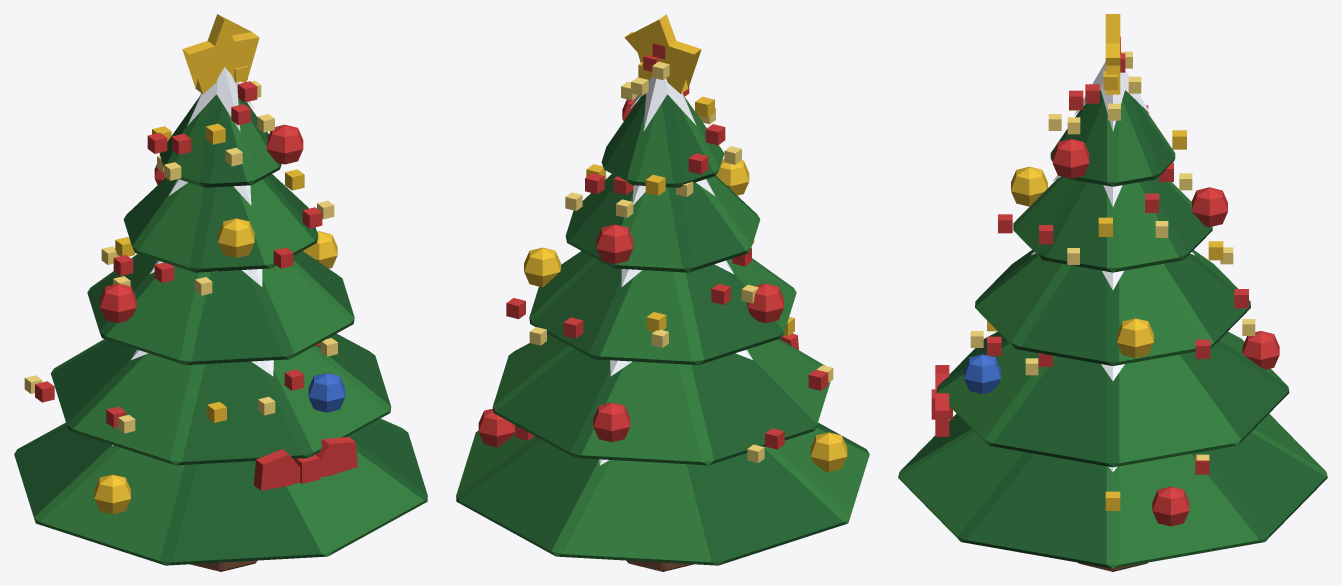
The model's file is decorated-tree-1x1.glb.
The picture shows the model from 3 angles, left to right: view 1: azimuth 30°, elevation 25°; view 2: azimuth 150°, elevation 25°; view 3: azimuth 270°, elevation 25°; orthographic projection.
Parts seen in each view (by area): view 1: decorated-tree-1x1; view 2: decorated-tree-1x1; view 3: decorated-tree-1x1.
Part boxes in pixels (x1,y1,x2,y2): decorated-tree-1x1: (14, 14, 427, 571); decorated-tree-1x1: (456, 14, 869, 571); decorated-tree-1x1: (898, 14, 1327, 571).
Size of the model in its own units: 0.9 by 1.25 by 0.9.
Materials: 1 (1 with a texture image).
